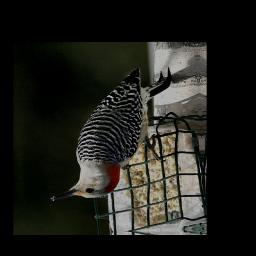Woodpecker: (43, 66, 178, 201)
